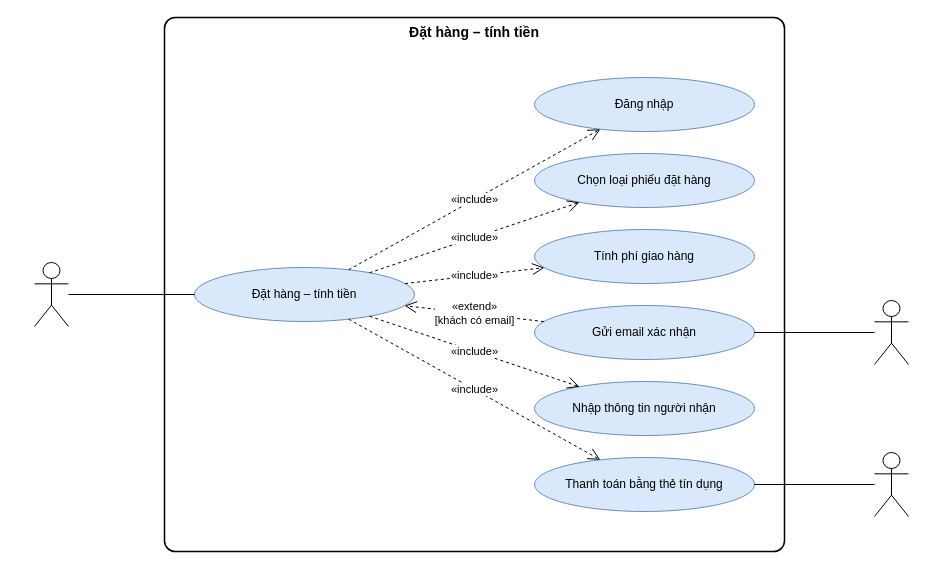
Some shapes in this 949 by 570 pixel diagram are drawn without their labels. Here are the shapes that lost their labels. From the top down, the centre of each, then its label:
At pixel 51 294: "Khách hàng".
At pixel 891 332: "DV email".
At pixel 891 484: "DV thanh toán".
